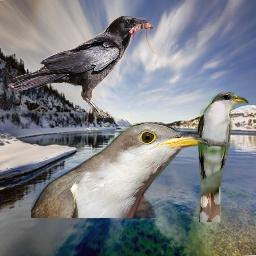Crow: (7, 12, 165, 118)
Cuckoo: (31, 122, 210, 218), (196, 91, 249, 222)
